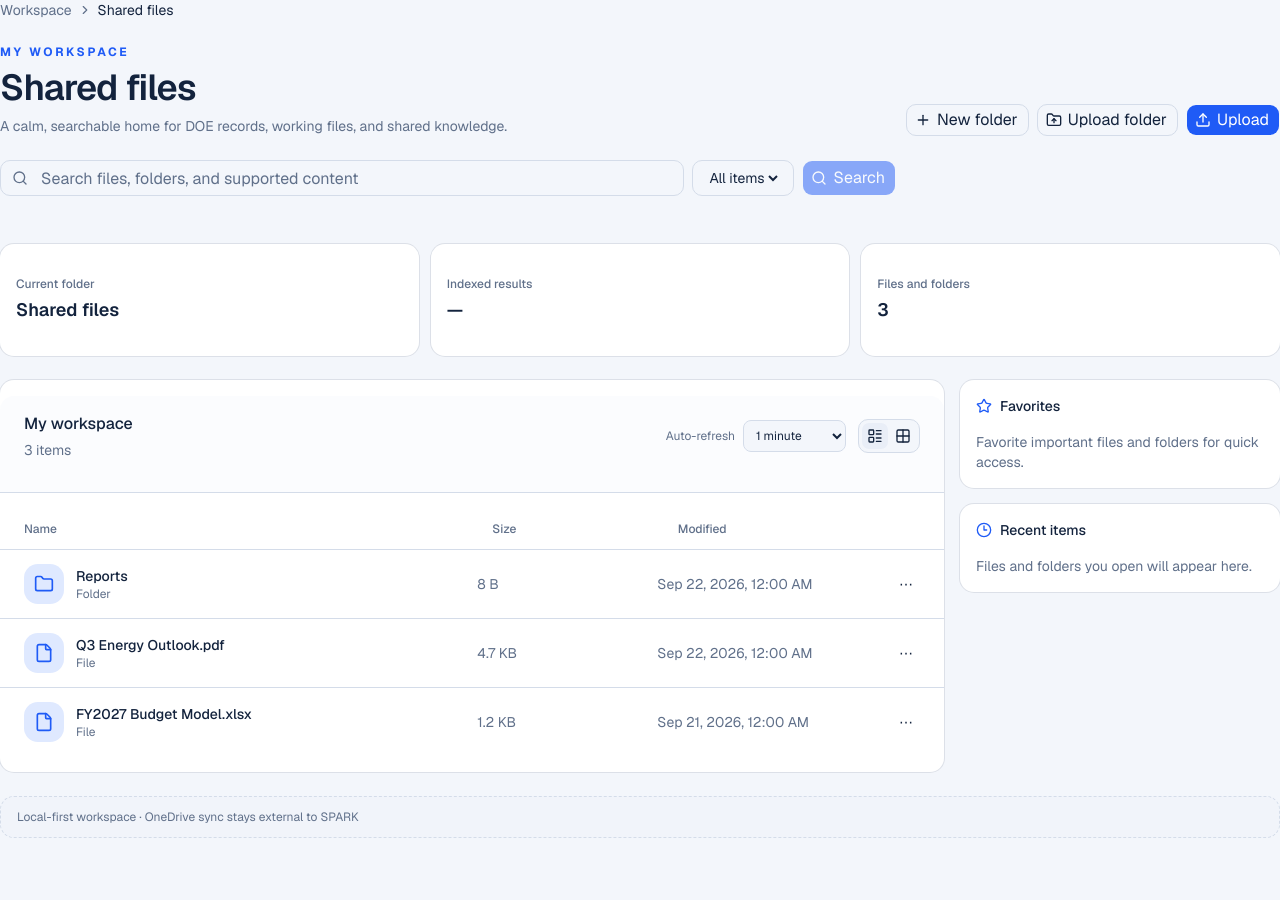
Scenario: FileWorkspace › creates a folder through the API
Click the button "New folder".
click(967, 120)  # box [906,104,1029,136]
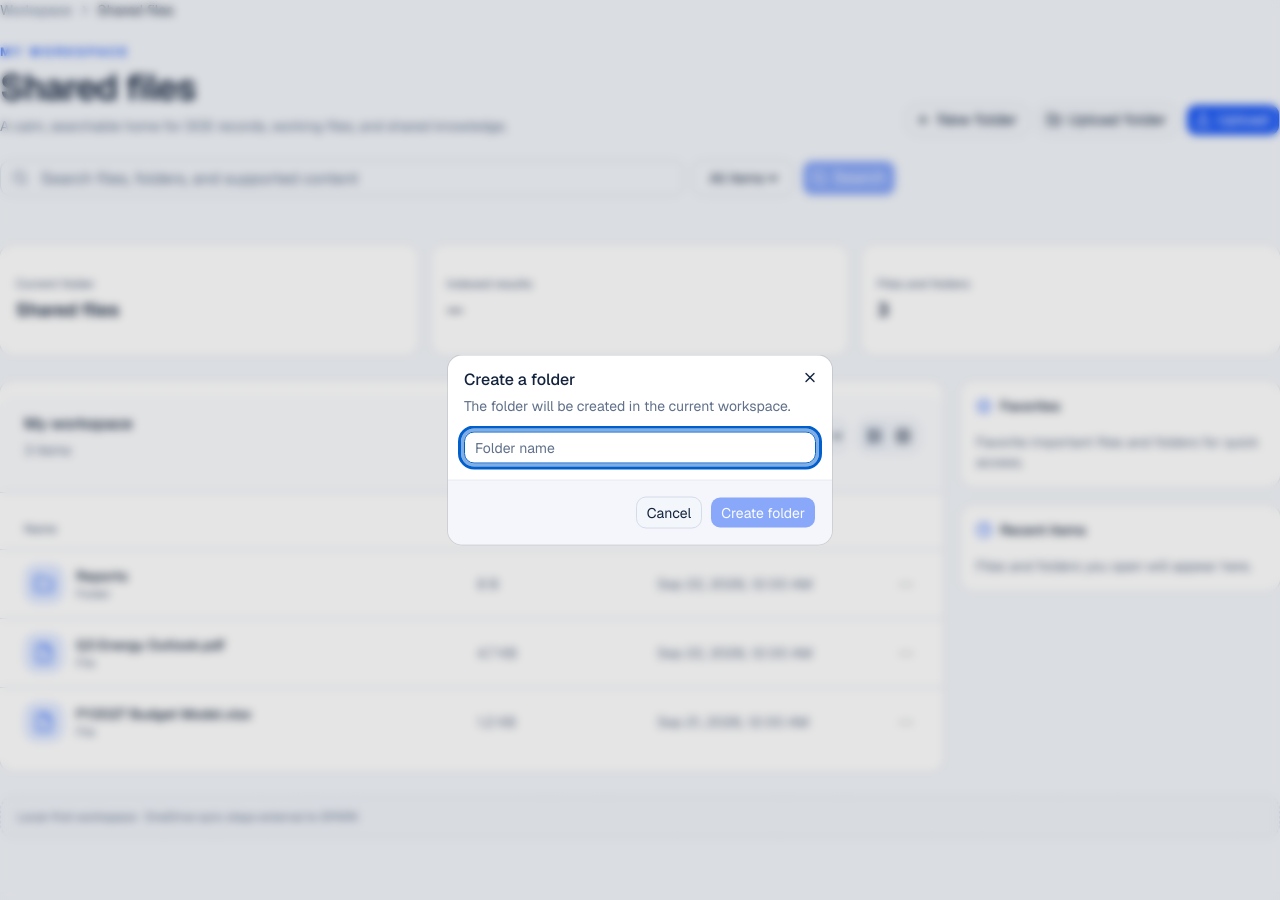
Type "Briefings" into the field labelled "Folder name".
click(640, 448); type("Briefings")  # box [464,432,816,464]
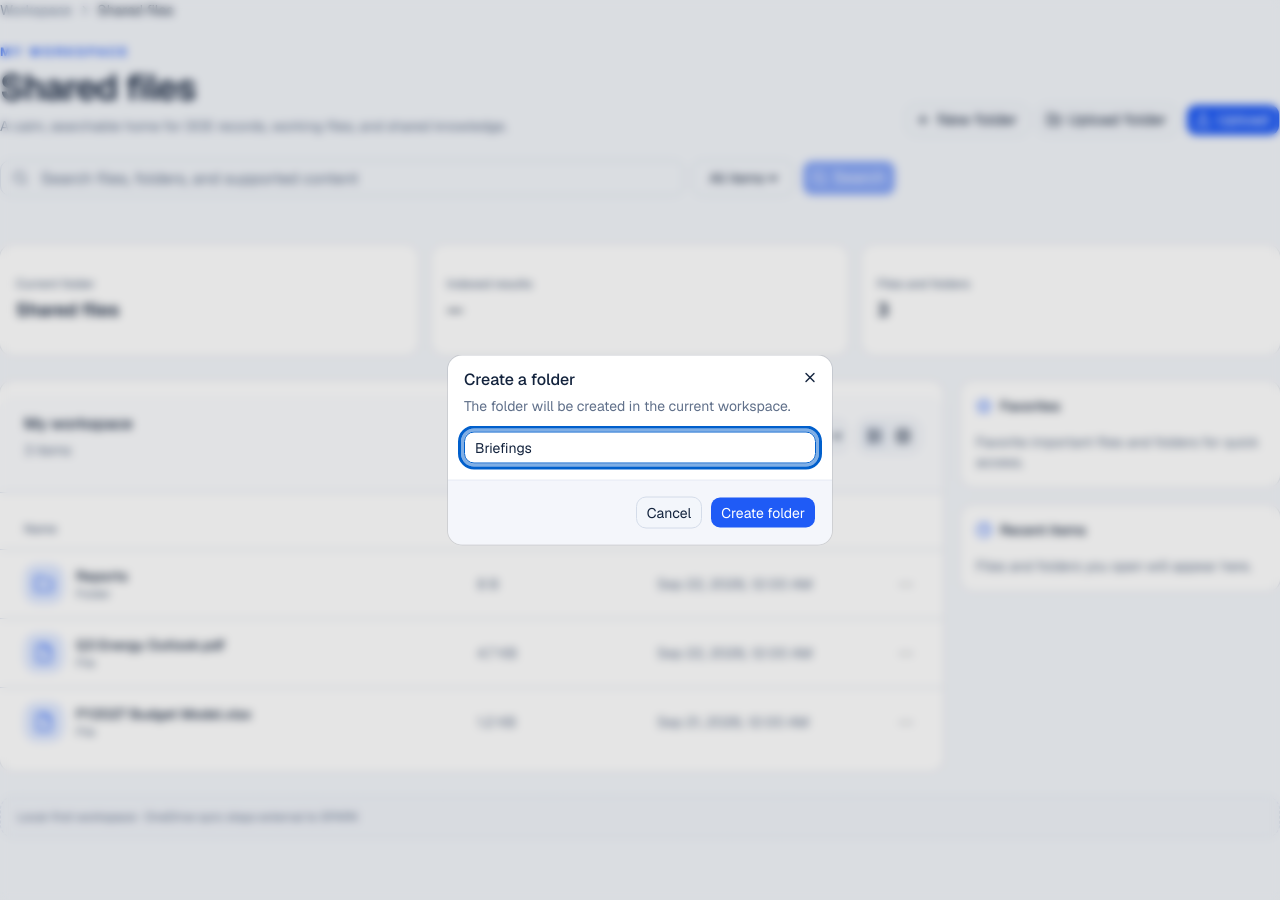
Click the button "Create folder".
click(763, 512)  # box [710,496,816,528]
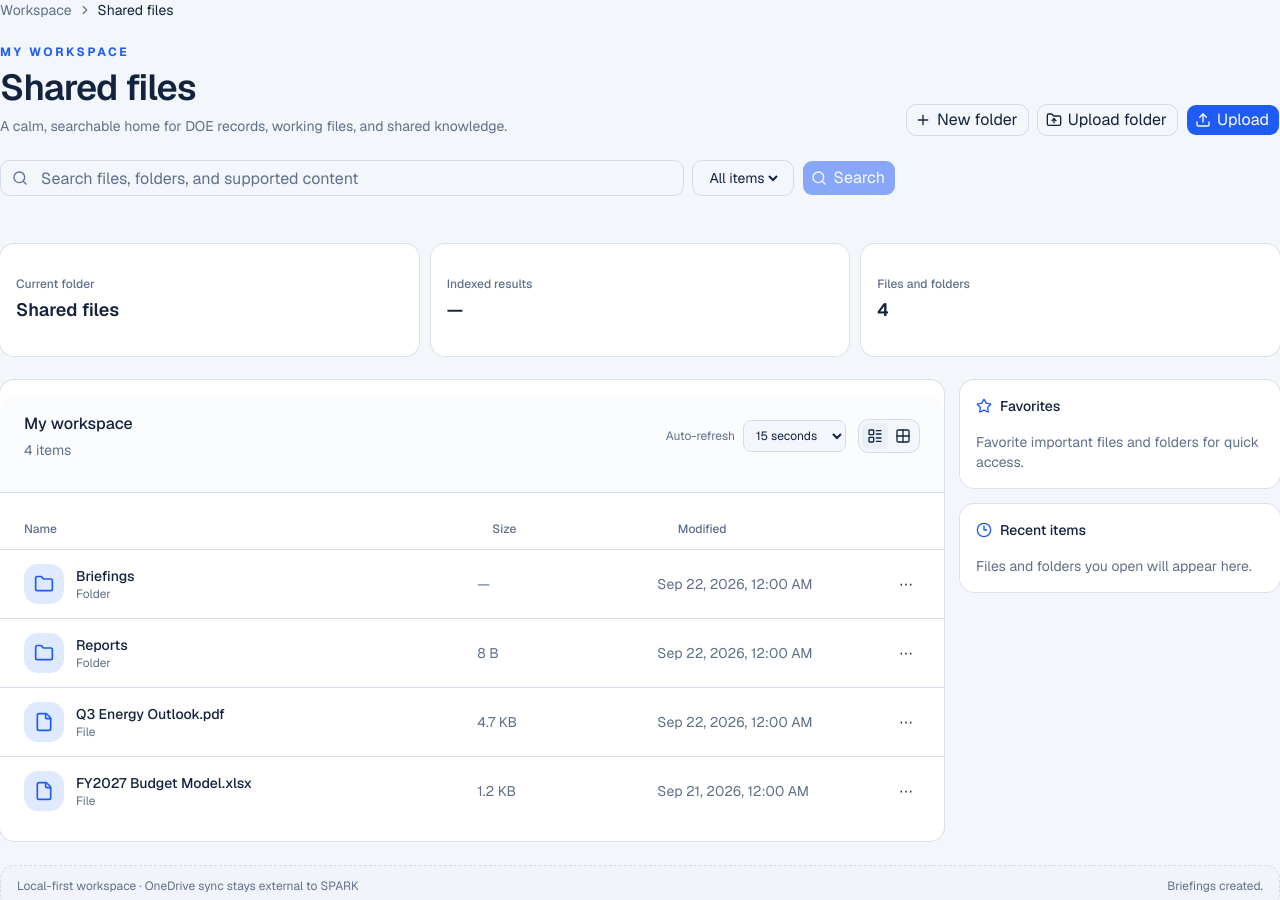
Result: the text "Briefings" is shown at [76,566,135,586]
